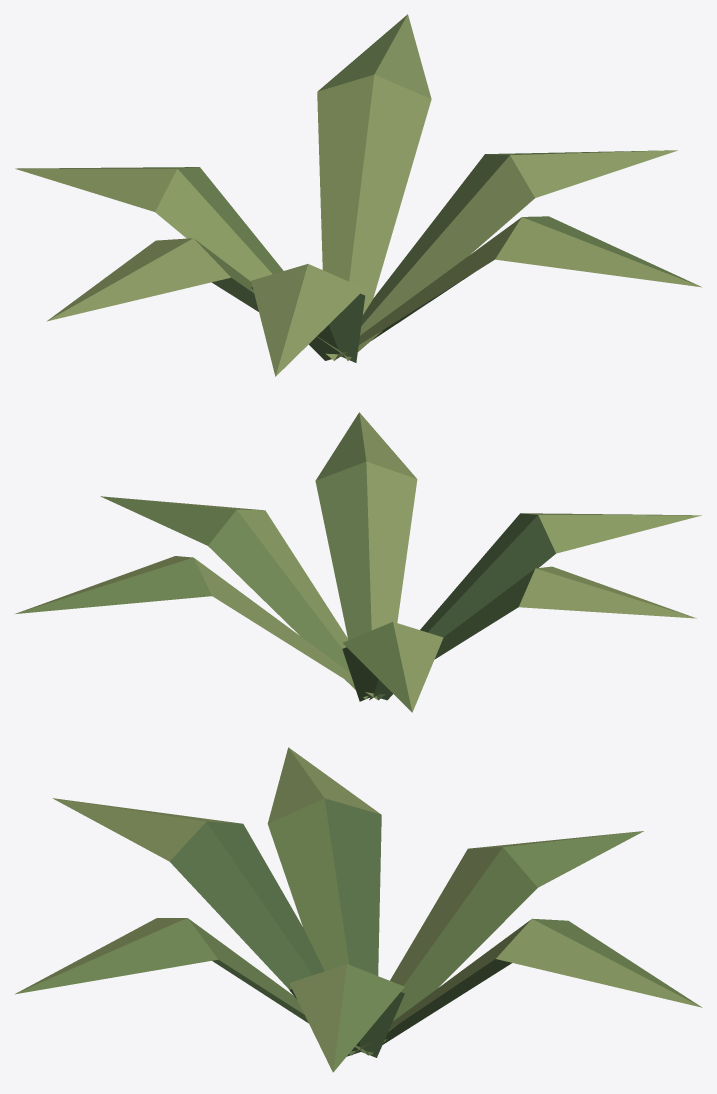
File: prop_temperate_fern_0.glb
3 views of the same model, one above another, from view 1: azimuth 30°, elevation 25°; view 2: azimuth 150°, elevation 25°; view 3: azimuth 270°, elevation 25° (orthographic). The views are drawn at different scales.
Visible parts, largest first — view 1: Body; view 2: Body; view 3: Body.
Part boxes in pixels (left/top/right/bottom): Body: left=15, top=14, right=701, bottom=376; Body: left=14, top=412, right=701, bottom=712; Body: left=15, top=747, right=702, bottom=1072.
Size of the model in its own units: 1.2 by 0.3434 by 1.09.
